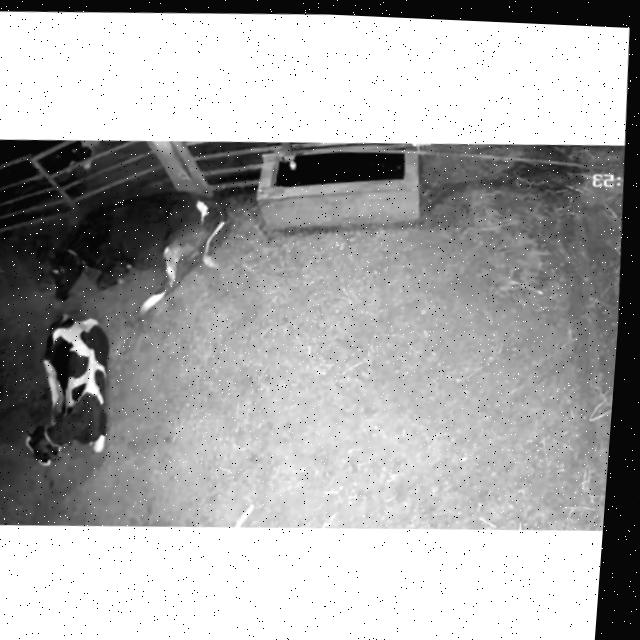lay: (20, 173, 242, 324), (4, 297, 127, 477)
